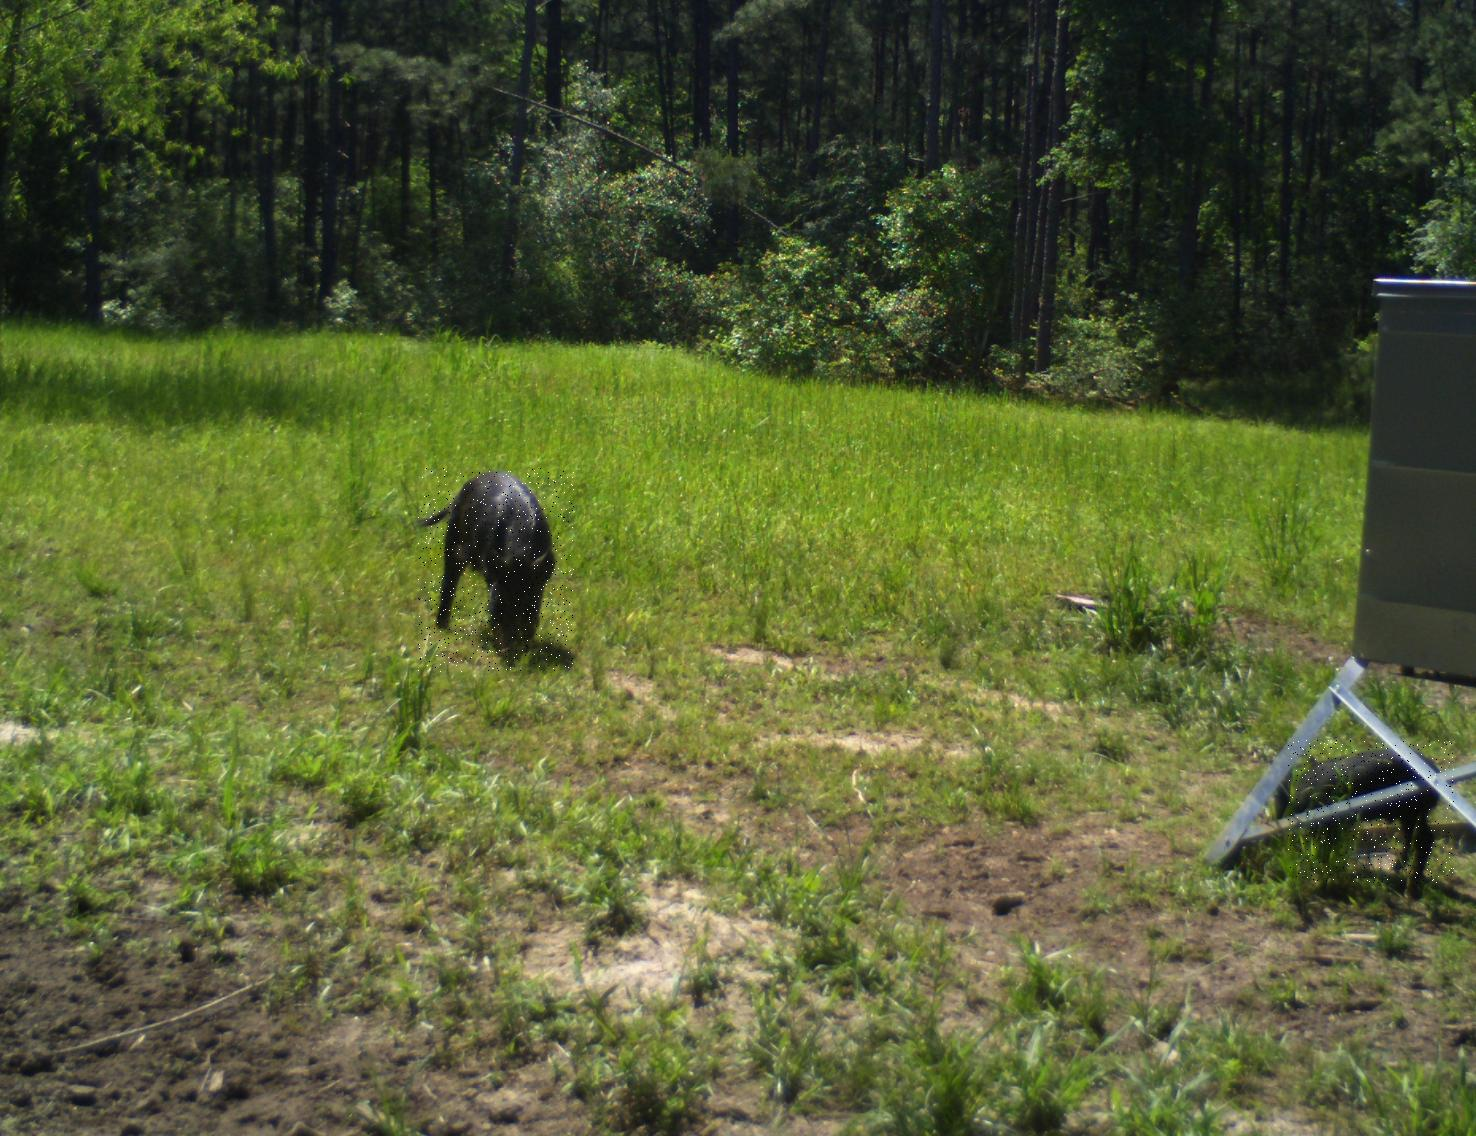Hog: (418, 468, 574, 672), (1287, 740, 1455, 884)
